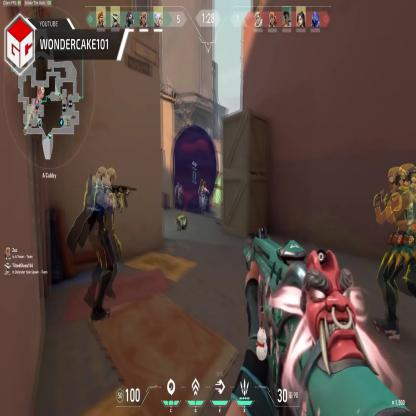enemy: (375, 164, 415, 344), (90, 168, 122, 319), (198, 181, 206, 214), (177, 182, 184, 212)
enemy_head: (386, 170, 404, 194), (99, 167, 112, 187), (203, 182, 207, 187), (180, 184, 182, 190)
